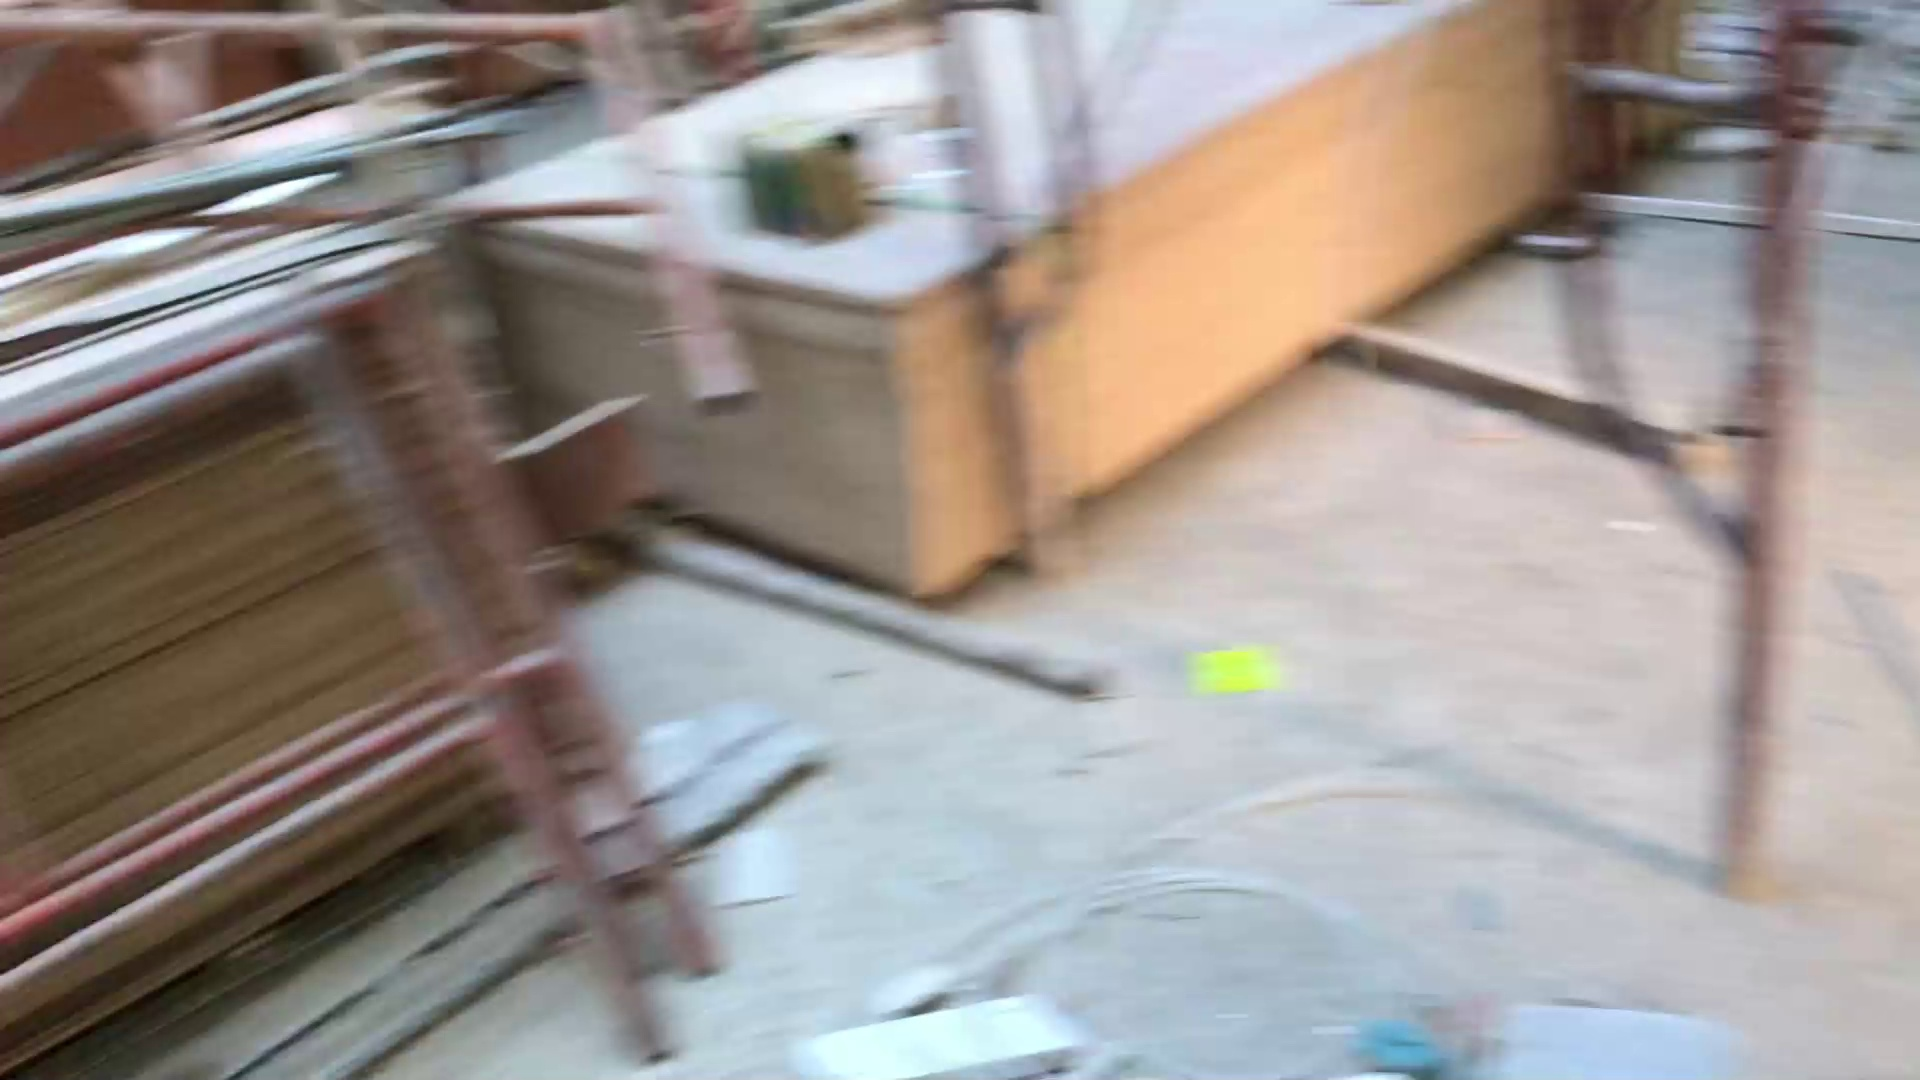board: (15, 307, 589, 876)
